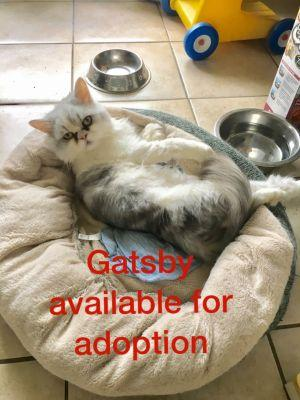persian: (29, 74, 121, 165)
